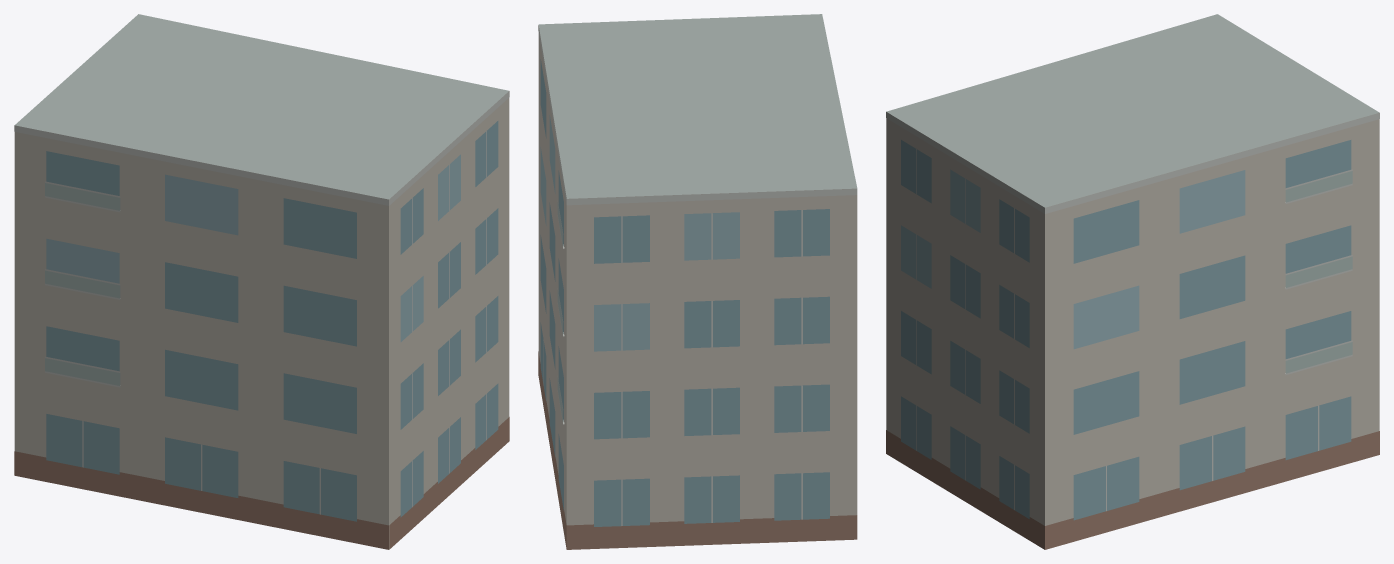
The model's file is survey-upis-32811889.glb.
3 renders of one model, left to right at view 1: azimuth 30°, elevation 25°; view 2: azimuth 150°, elevation 25°; view 3: azimuth 270°, elevation 25°, orthographic. The views are drawn at different scales.
Parts seen in each view (by area): view 1: survey-upis-32811889.tmp; view 2: survey-upis-32811889.tmp; view 3: survey-upis-32811889.tmp.
Boxes of the visible parts, x1,y1,x2,y2 form: survey-upis-32811889.tmp: (14, 14, 509, 549); survey-upis-32811889.tmp: (538, 14, 857, 549); survey-upis-32811889.tmp: (886, 14, 1379, 549).
Bounding box in the file's own units: 16.04 × 13.2 × 17.27.
